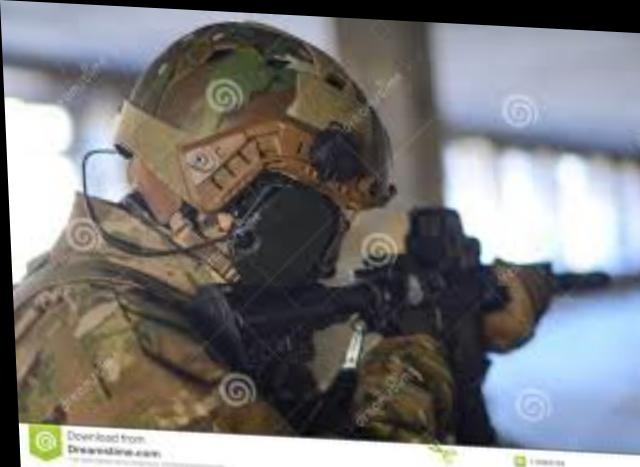other: (0, 6, 537, 448)
